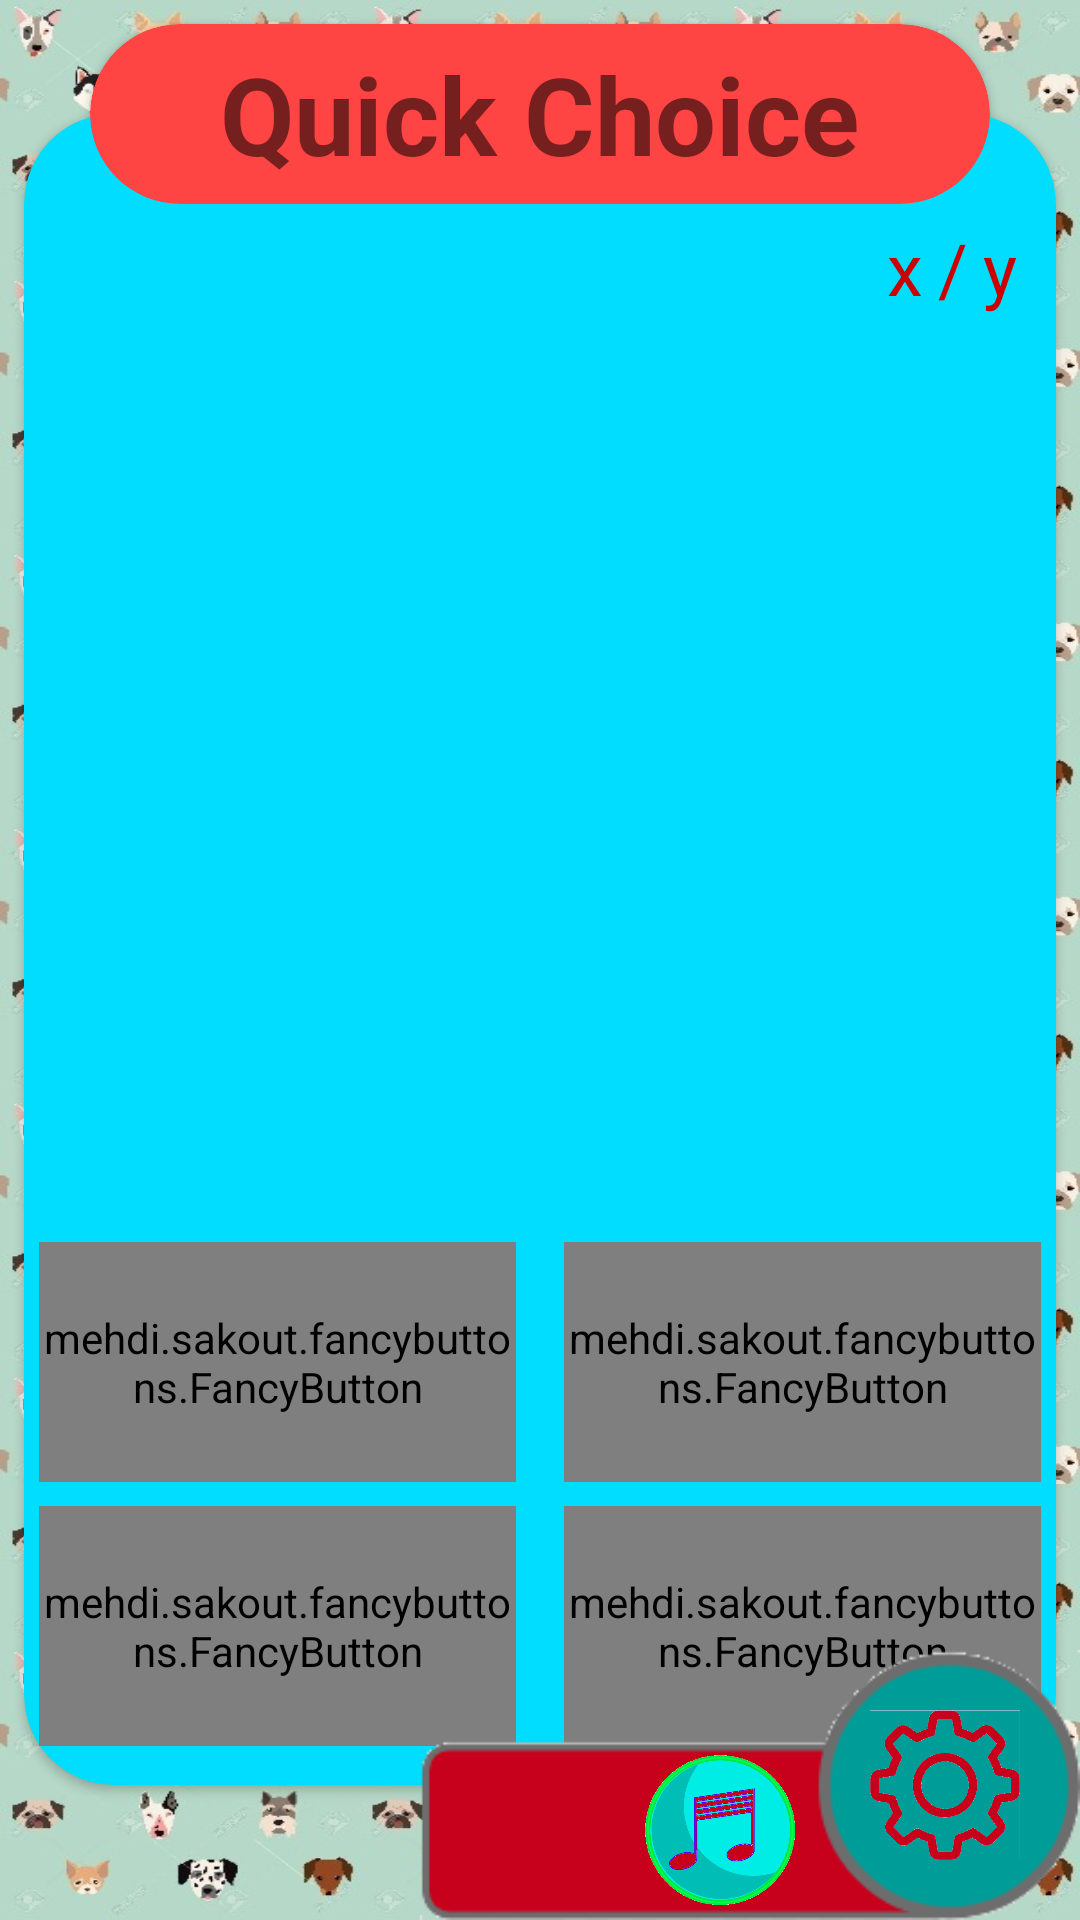

Screen size 1080 × 1920. Icon name, then its center in pixels as (x=x, y=y):
music on: (x=720, y=1830)
setting: (x=945, y=1785)
